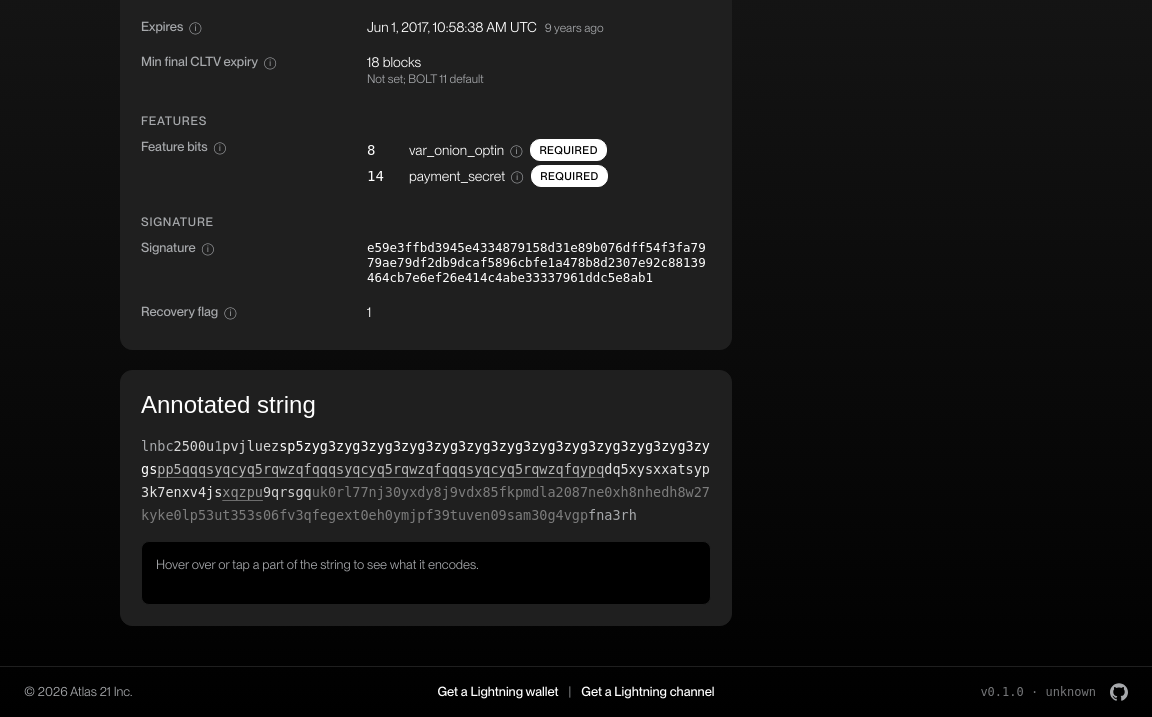
Decode page › updates the info panel when a part of the string is hovered
(page scrolled)
Step 1. Hover over the button with aria-label "description" → (657, 469), box 141,461 -> 710,500
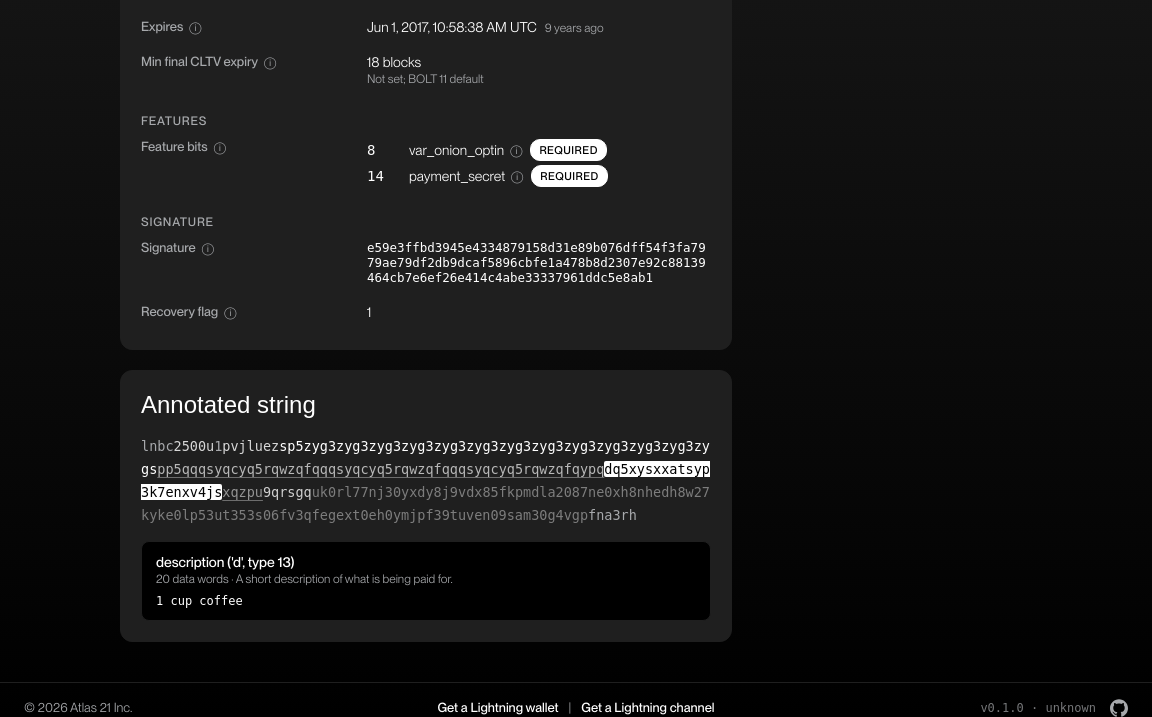
Result: the text "description ('d', type 13)" is shown at 156,554 -> 294,570
